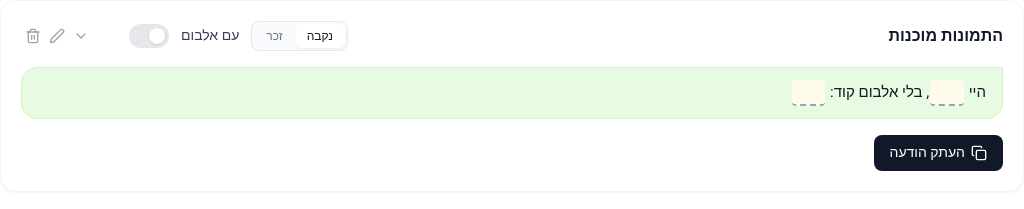
Test case: MessageCard › switches between the 4 versions with the toggles
This screenshot has width=1024, height=209.
Step 1. Click the switch named "עם אלבום" → (149, 36), box x1=129 y1=24 x2=169 y2=48
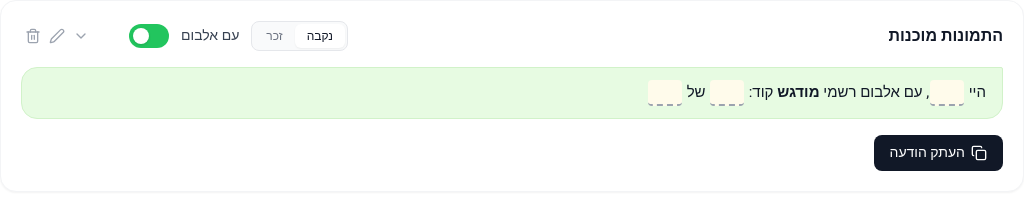
Expected: the text ", עם אלבום רשמי" is shown, x1=820 y1=81 x2=929 y2=103
Step 2. Click the radio button labelled "זכר" → (274, 36), box x1=254 y1=24 x2=295 y2=48
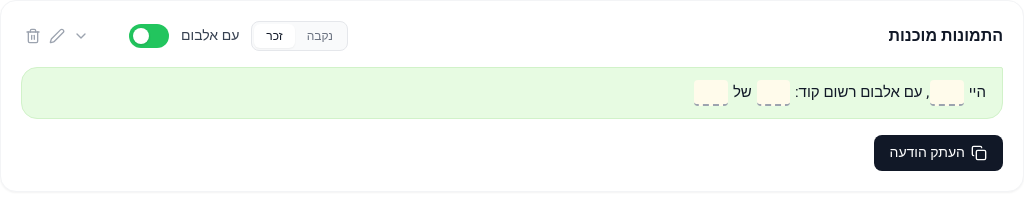
Expected: the text ", עם אלבום רשום קוד:" is shown, x1=791 y1=81 x2=929 y2=103
